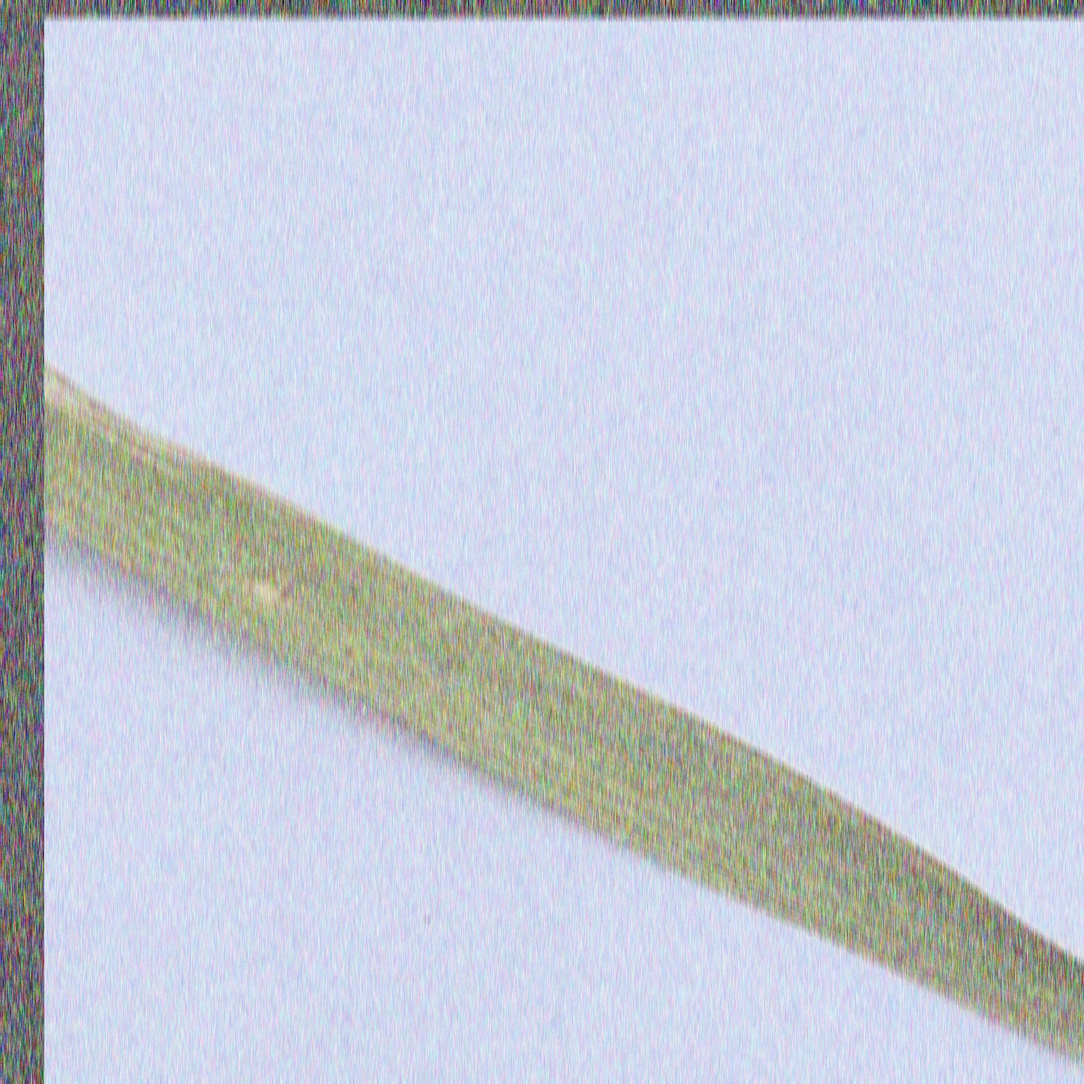Brown_Spot: (240, 546, 305, 614)
